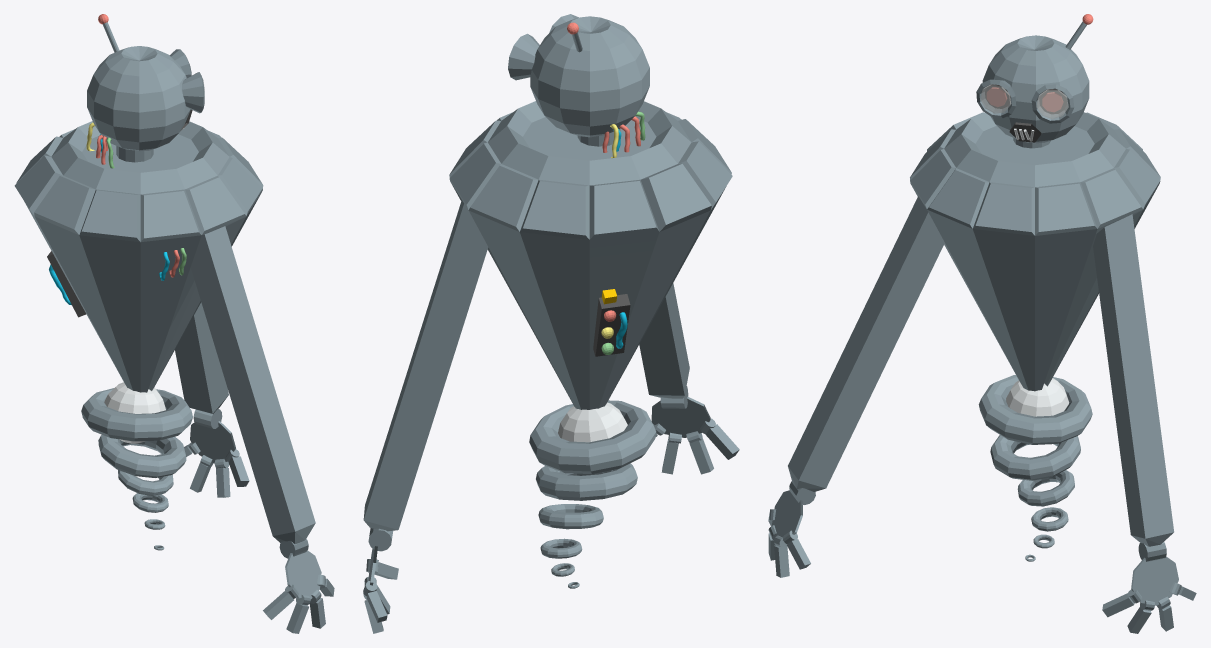
File: robotmeathead#0000.fbx
3 views of the same model, side by side, from view 1: azimuth 30°, elevation 25°; view 2: azimuth 150°, elevation 25°; view 3: azimuth 270°, elevation 25° (orthographic). The views are drawn at different scales.
Parts seen in each view (by area): view 1: model; view 2: model; view 3: model.
Boxes of the visible parts, bbox=[...] form: model: bbox=[14, 14, 334, 633]; model: bbox=[363, 14, 739, 633]; model: bbox=[768, 14, 1196, 633].
Size of the model in its own units: 55.52 by 112 by 78.96.
